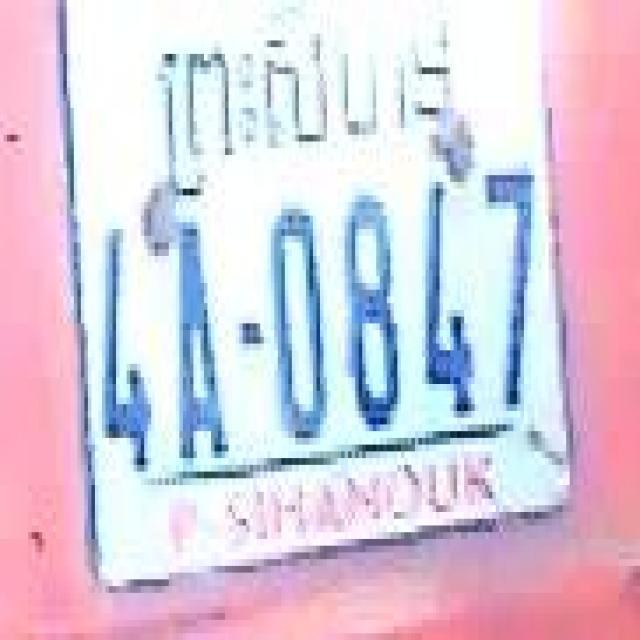Preah_Sihanouk: (158, 0, 450, 192)
